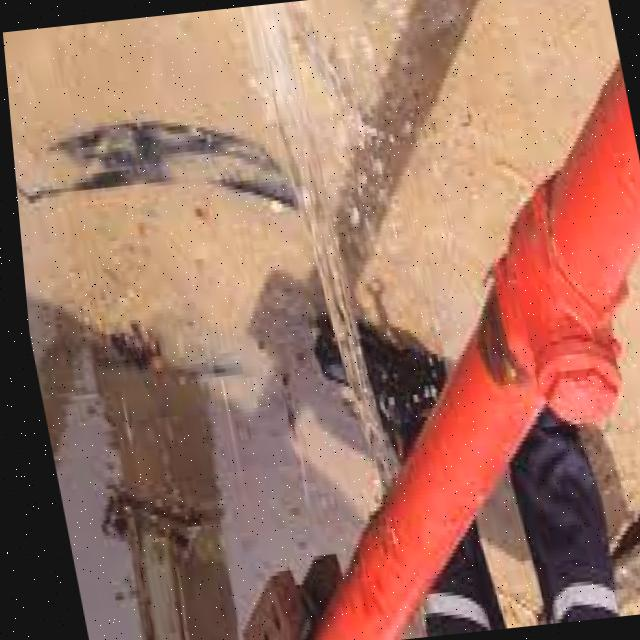corrosion: (284, 293, 524, 587)
